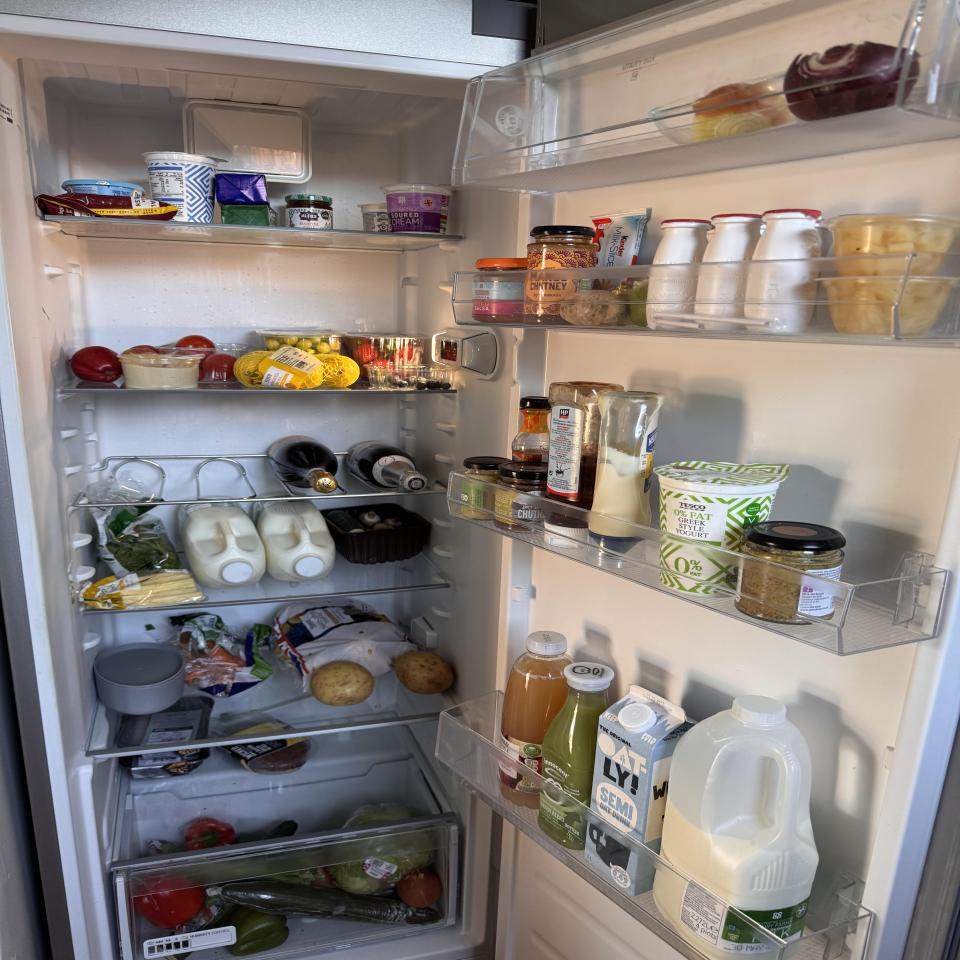Leche: (649, 693, 822, 960), (584, 684, 700, 897), (176, 498, 266, 588), (250, 492, 336, 581)
Lechuga/Endivia: (329, 803, 434, 894)
Limón: (232, 352, 272, 388), (324, 356, 361, 388)
Mantequilla: (215, 173, 269, 205), (221, 204, 280, 228)
Pepino: (207, 879, 442, 924), (258, 820, 299, 841)
Tomate: (174, 335, 216, 357), (205, 354, 238, 379)
Yogur: (652, 461, 790, 598), (139, 151, 229, 238), (380, 182, 455, 241)
Zanahoria: (172, 612, 272, 697)
